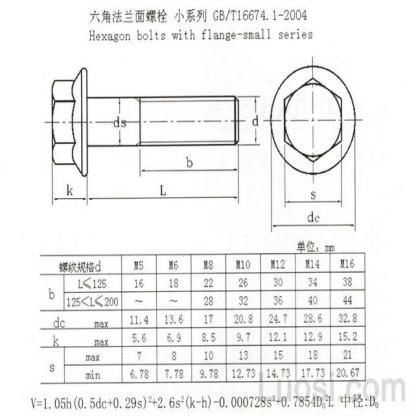FOD: (50, 65, 240, 177)
